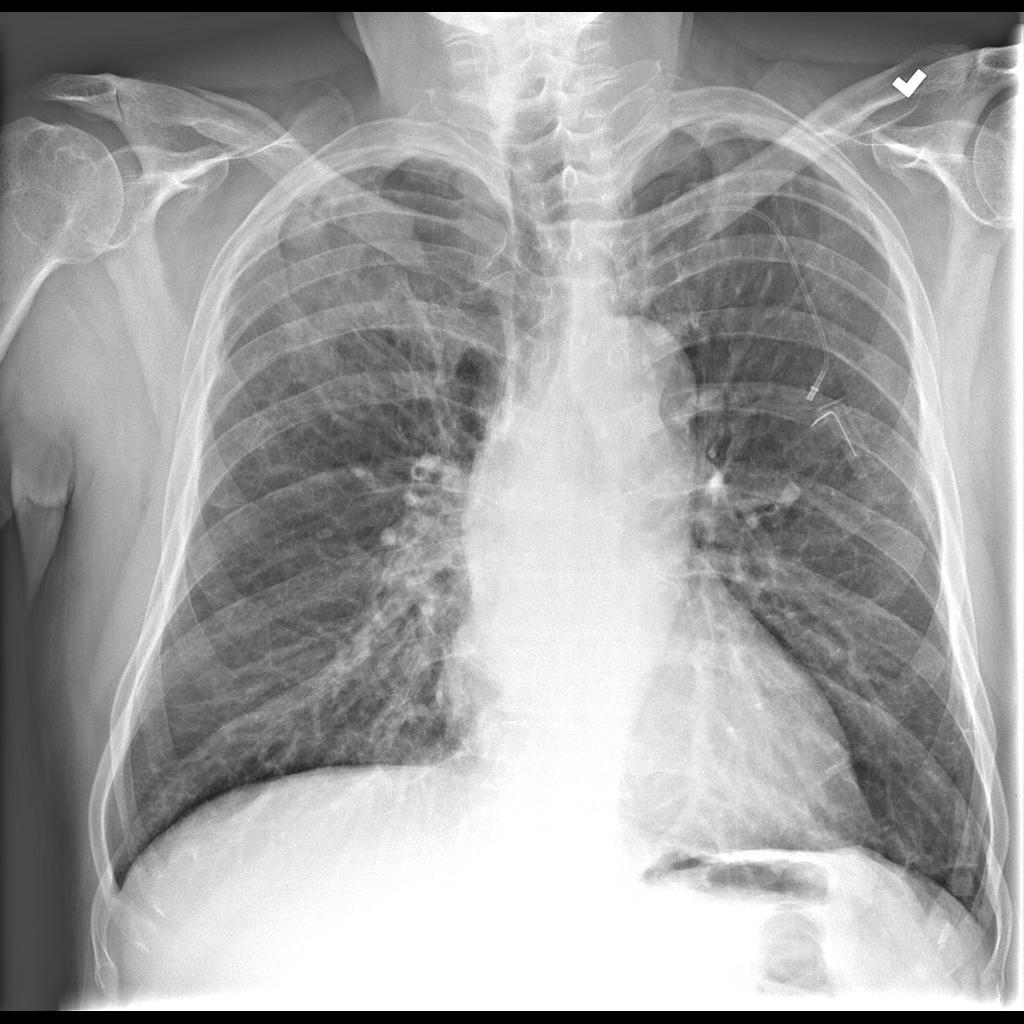Nodule: (281, 213, 331, 262)
